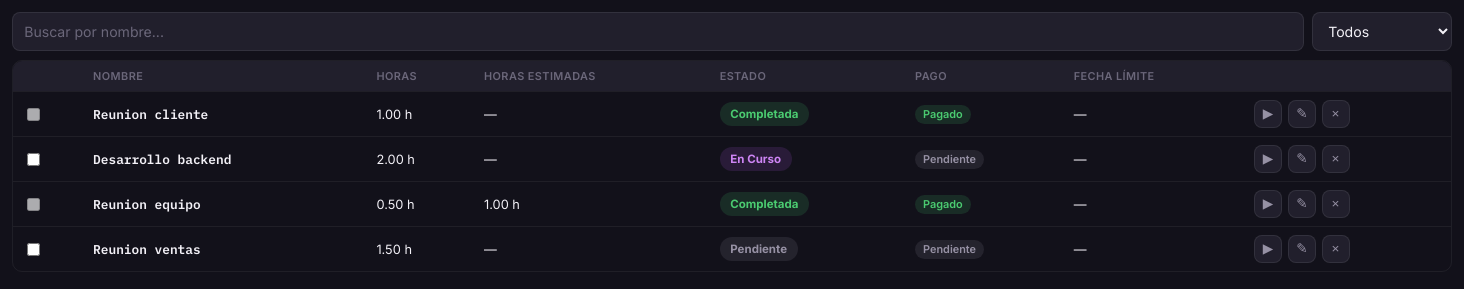
Test: TareasTable: filtrado combinado › muestra un mensaje cuando los filtros no matchean ninguna tarea
Expected: the button "Reunion cliente" is shown, 93,106 -> 208,123
Type "inexistente" into the search field with placeholder "Buscar por nombre..." at (658, 31), box 12,12 -> 1304,51
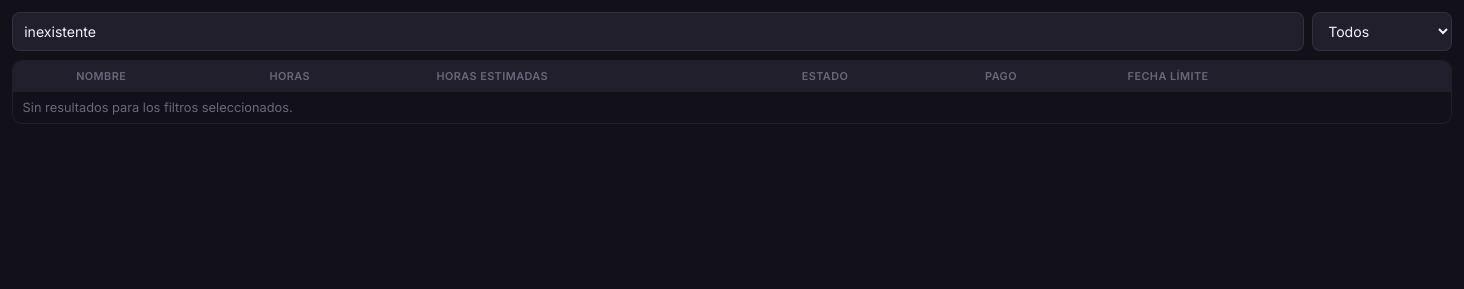
Now the text "Sin resultados para los filtros seleccionados." is shown, box 13,92 -> 1451,123
